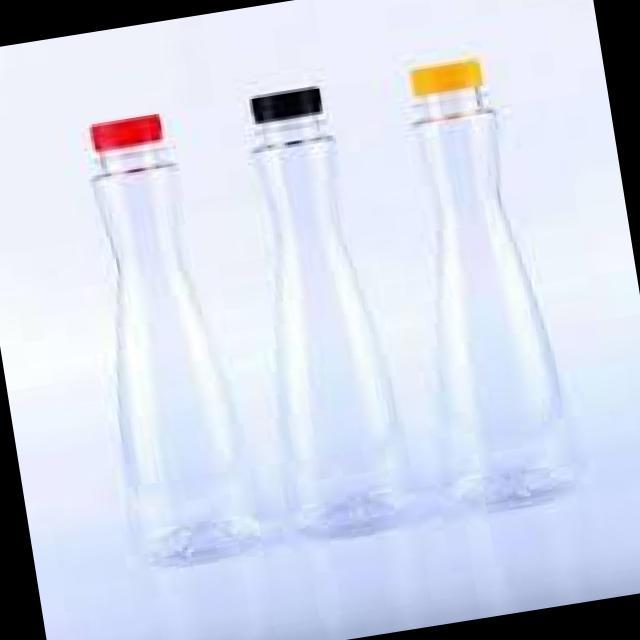good: (35, 93, 282, 577), (372, 53, 597, 526), (227, 75, 428, 555)
